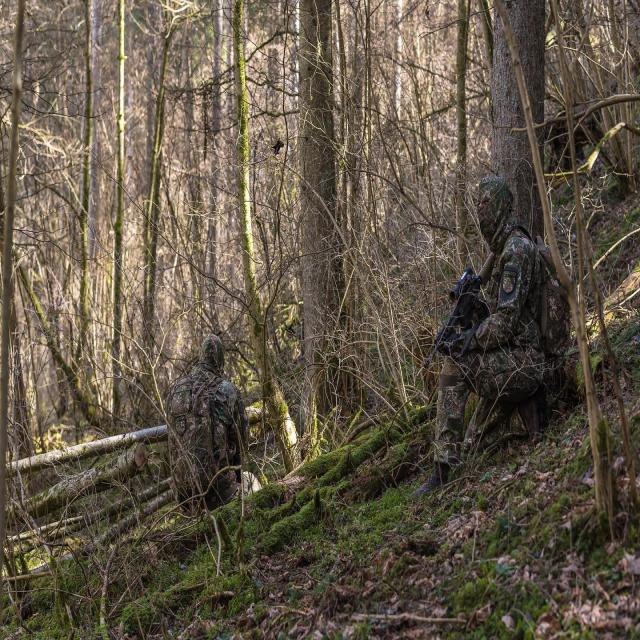Human: (402, 177, 570, 508), (166, 335, 260, 511)
